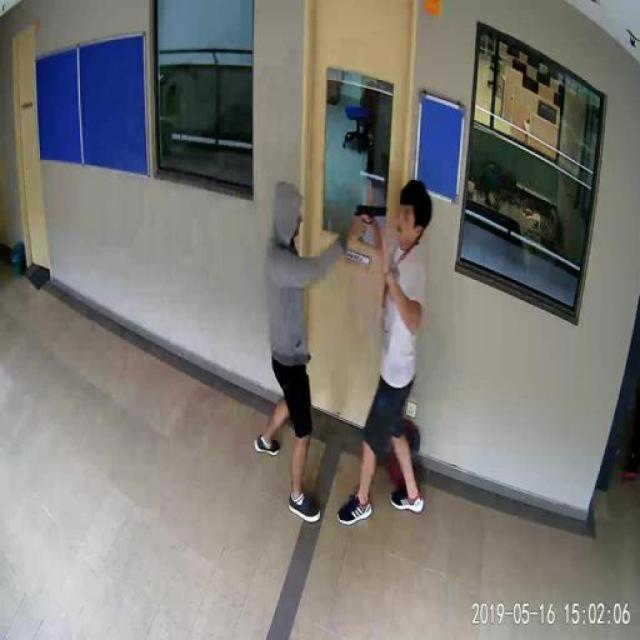pistol: (354, 204, 384, 235)
